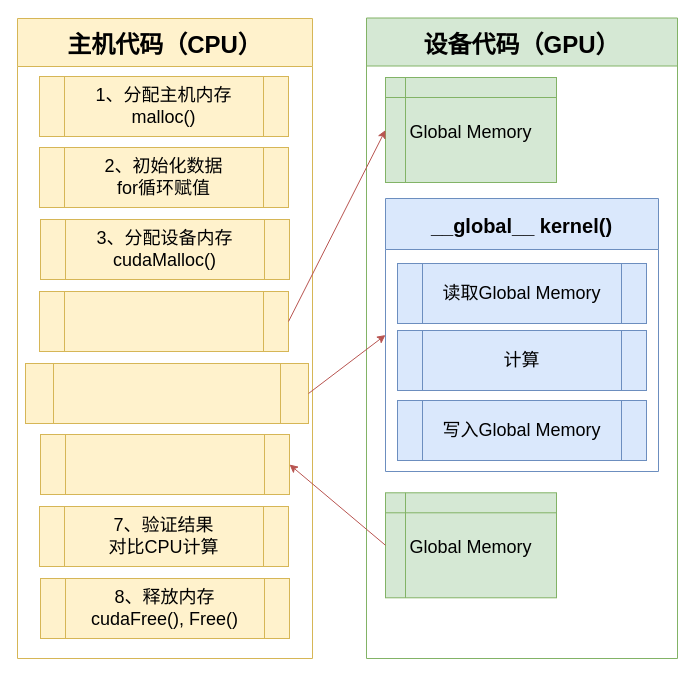
Some shapes in this 695 by 676 pixel diagram are drawn without their labels. Here are the shapes that lost their labels. From the top down, the centre of each, then its label:
point 163,321: 4、拷贝数据到GPU cudaMemcpy(H2D)
point 166,393: 5、启动kernel kernel<<<blocks, threads>>>()
point 165,464: 6、拷贝结果回CPU cudaMemcpy(D2H)
